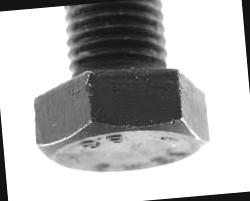screw: (30, 60, 212, 180)
